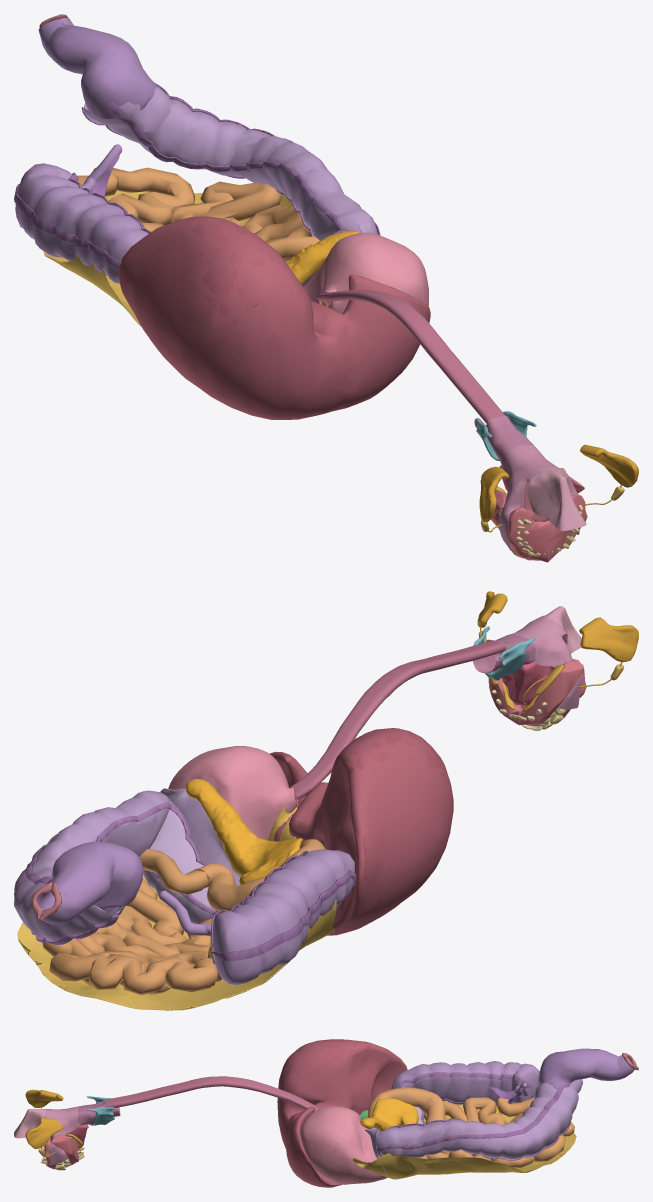
Rendered from digestive.glb.
3 views of the same model, one above another, from view 1: azimuth 30°, elevation 25°; view 2: azimuth 150°, elevation 25°; view 3: azimuth 270°, elevation 25° (orthographic). The views are drawn at different scales.
Parts seen in each view (by area): view 1: 肝, 降结肠, 空肠, 升结肠, 乙状结肠, 胃, 食管, 牙龈, 独立带, 口咽, 鼻咽, 肝右后叶上段（第7段） (+7 smaller); view 2: 肝, 空肠, 升结肠, 降结肠, 胃, 乙状结肠, 大网膜, 食管, 胰, 横结肠, 牙龈, 结肠系膜 (+13 smaller); view 3: 肝, 降结肠, 胃, 升结肠, 大网膜, 空肠, 乙状结肠, 食管, 十二指肠, 胰, 系膜带, 口咽 (+8 smaller).
Boxes of the visible parts, x1,y1,x2,y2 form: 肝: (118, 216, 430, 419); 降结肠: (83, 82, 378, 240); 空肠: (77, 167, 319, 259); 升结肠: (15, 163, 148, 283); 乙状结肠: (38, 18, 157, 118); 胃: (303, 232, 428, 313); 食管: (317, 290, 505, 423); 牙龈: (491, 477, 587, 562); 独立带: (68, 102, 343, 234); 口咽: (498, 444, 579, 550); 鼻咽: (528, 467, 586, 530); 肝右后叶上段（第7段）: (192, 222, 278, 323); 肝: (270, 728, 453, 935); 空肠: (42, 849, 221, 995); 升结肠: (212, 849, 354, 984); 降结肠: (14, 790, 170, 941); 胃: (168, 746, 297, 840); 乙状结肠: (37, 841, 143, 924); 大网膜: (17, 874, 336, 1010); 食管: (290, 641, 505, 799); 胰: (186, 779, 303, 884); 横结肠: (143, 800, 340, 923); 牙龈: (488, 659, 586, 726); 结肠系膜: (160, 788, 240, 885); 肝: (277, 1039, 407, 1187); 降结肠: (375, 1073, 582, 1158); 胃: (300, 1106, 387, 1184); 升结肠: (391, 1061, 539, 1103); 大网膜: (353, 1100, 576, 1179); 空肠: (418, 1097, 574, 1167); 乙状结肠: (539, 1048, 634, 1088); 食管: (105, 1076, 319, 1111); 十二指肠: (368, 1087, 445, 1122); 胰: (360, 1098, 418, 1131); 系膜带: (377, 1085, 564, 1156); 口咽: (44, 1106, 79, 1165).
Size of the model in its own units: 0.338 by 0.2523 by 1.17.
